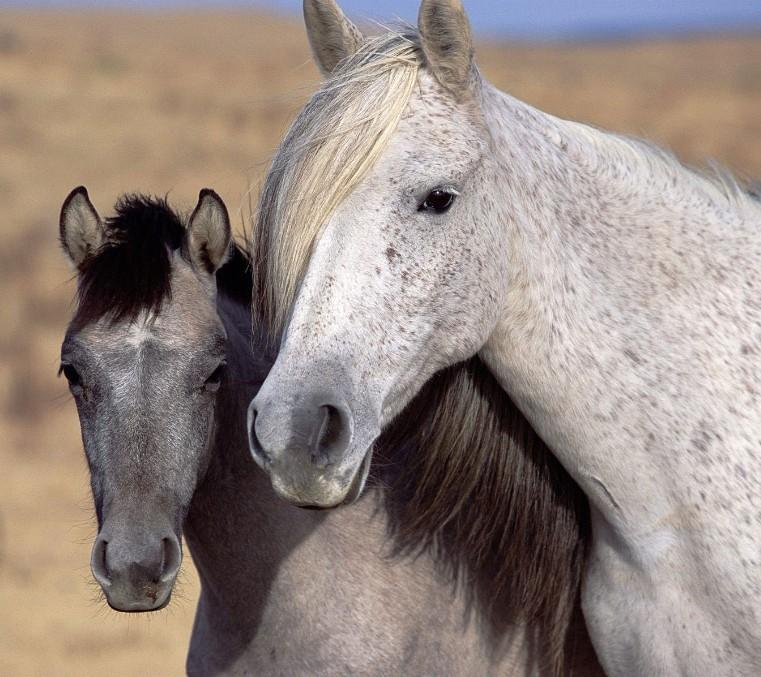horse: (235, 1, 761, 677), (53, 178, 628, 677)
